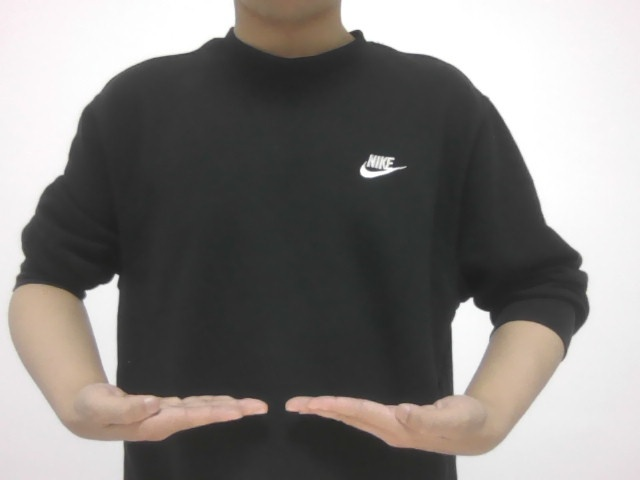today: (63, 345, 503, 472)
